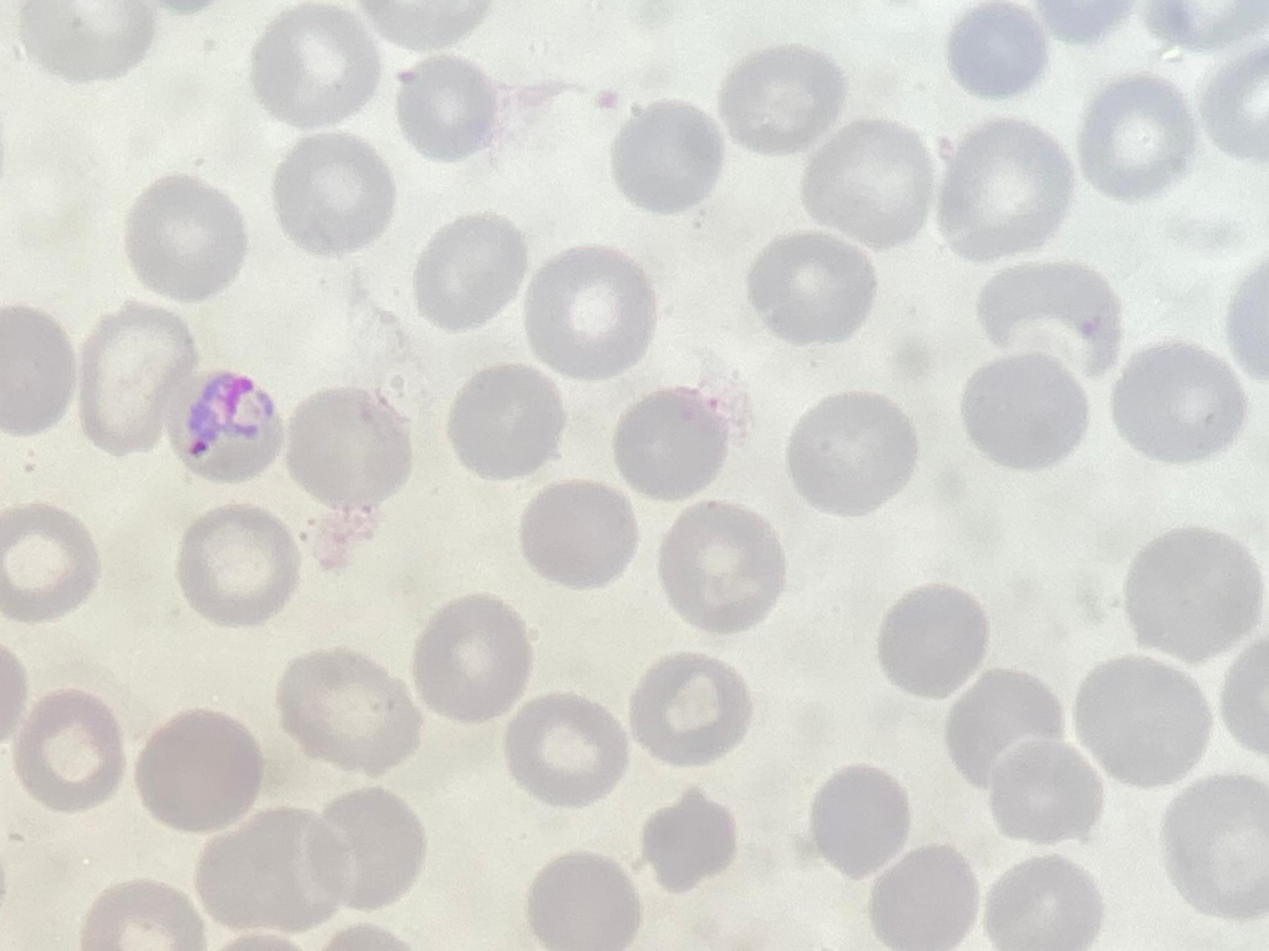Infected: (160, 367, 283, 484)
Uninfected: (1120, 525, 1258, 662), (195, 806, 344, 931), (275, 649, 421, 775), (938, 120, 1070, 253), (78, 305, 196, 451), (521, 247, 653, 377), (243, 2, 375, 131), (800, 120, 934, 247), (1110, 339, 1245, 465), (1076, 656, 1206, 786), (974, 259, 1122, 373), (783, 389, 915, 514), (134, 708, 264, 833), (657, 503, 785, 628), (271, 131, 399, 254), (411, 596, 534, 722), (960, 352, 1090, 471), (1159, 775, 1268, 915), (284, 388, 411, 508), (744, 231, 875, 347), (175, 503, 300, 624), (124, 174, 247, 296), (629, 652, 752, 769), (945, 669, 1064, 789), (313, 787, 426, 912), (13, 687, 126, 811), (410, 213, 529, 330), (516, 477, 638, 591), (611, 386, 732, 500), (504, 694, 627, 806), (1079, 76, 1191, 198), (446, 363, 562, 479), (717, 44, 841, 151), (876, 584, 990, 699), (609, 101, 724, 213), (986, 737, 1102, 842), (1, 502, 101, 621), (397, 48, 501, 160), (809, 765, 911, 879), (867, 847, 982, 948), (525, 851, 642, 946), (985, 855, 1101, 948), (640, 786, 740, 892), (1, 303, 78, 434), (946, 4, 1044, 95)
